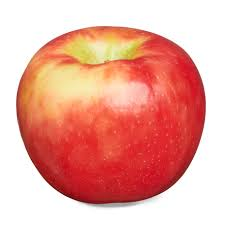apple: (17, 26, 206, 205)
